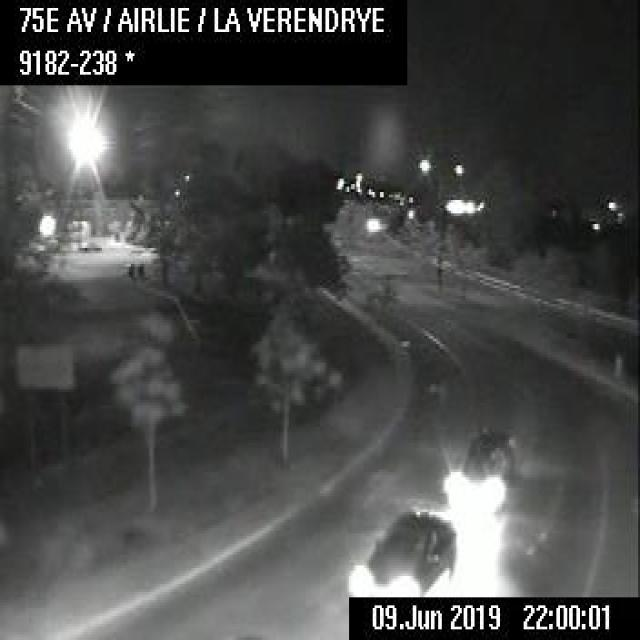vehicle: (347, 504, 460, 589), (454, 422, 516, 502), (362, 213, 382, 232)
